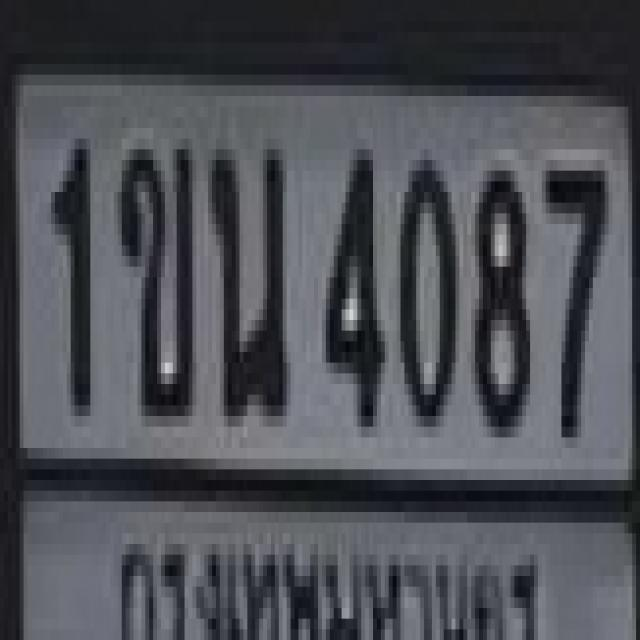0: (396, 149, 452, 416)
1: (51, 128, 86, 405)
4: (322, 139, 377, 416)
7: (542, 160, 601, 427)
8: (471, 160, 526, 427)
A02: (118, 139, 188, 405)
A25: (208, 133, 283, 411)
